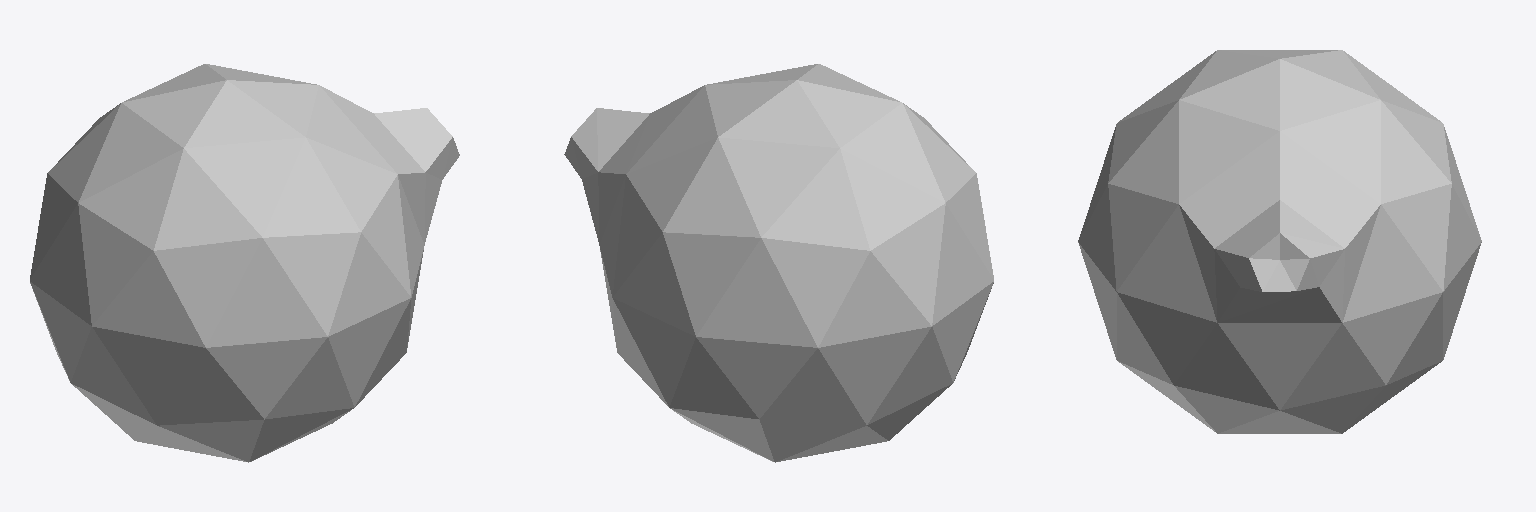
The model's file is SimpleTank.obj.
3 renders of one model, left to right at view 1: azimuth 30°, elevation 25°; view 2: azimuth 150°, elevation 25°; view 3: azimuth 270°, elevation 25°, orthographic.
Parts seen in each view (by area): view 1: Icosphere; view 2: Icosphere; view 3: Icosphere.
Boxes of the visible parts, <box> form: Icosphere: <box>30,64,459,462</box>; Icosphere: <box>564,64,993,462</box>; Icosphere: <box>1078,50,1481,433</box>.
Bounding box in the file's own units: 2.23 × 2 × 2.